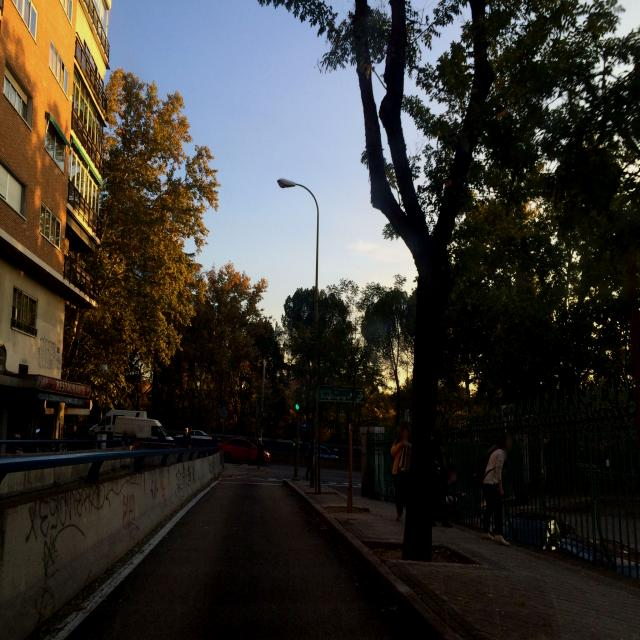car: (91, 408, 176, 447), (220, 436, 272, 464), (170, 428, 218, 452), (306, 443, 340, 464)
